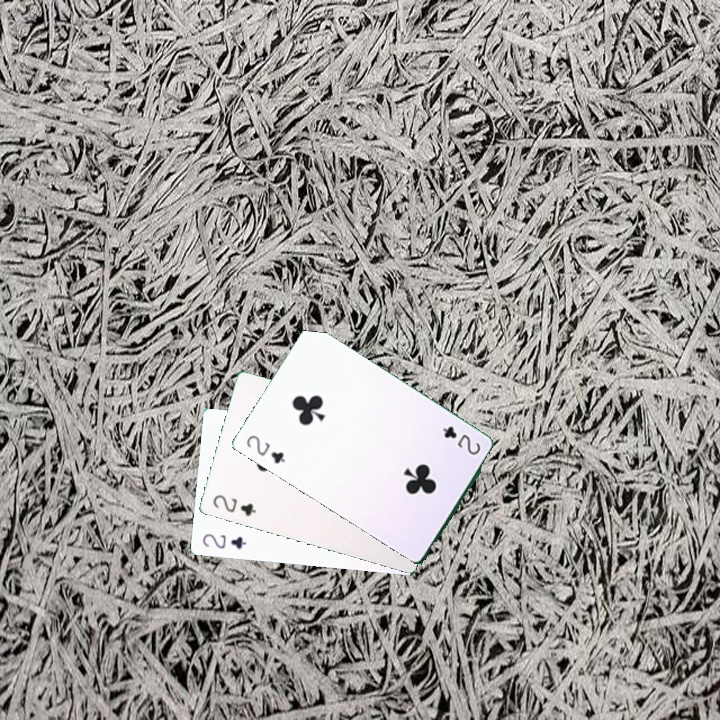2c: (438, 422, 483, 458), (242, 431, 288, 466), (209, 491, 259, 519), (199, 529, 249, 552)
